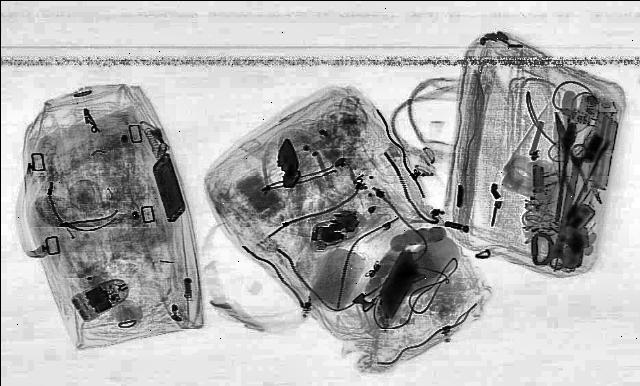Wrench: (546, 142, 588, 270)
